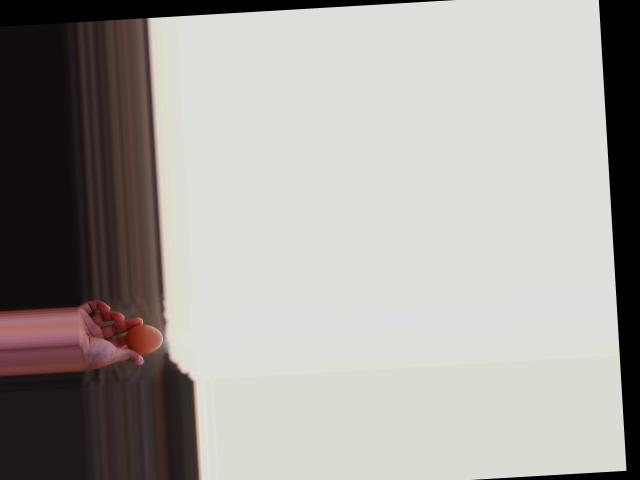egg: (125, 323, 163, 354)
